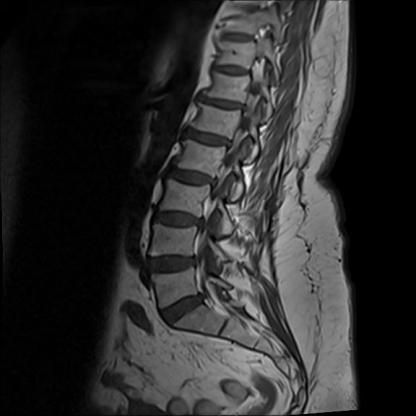Disc Bulgerotation: (158, 296, 214, 325)
Disc Relaxationrotation: (143, 250, 206, 278), (166, 165, 224, 191), (152, 205, 205, 232)
